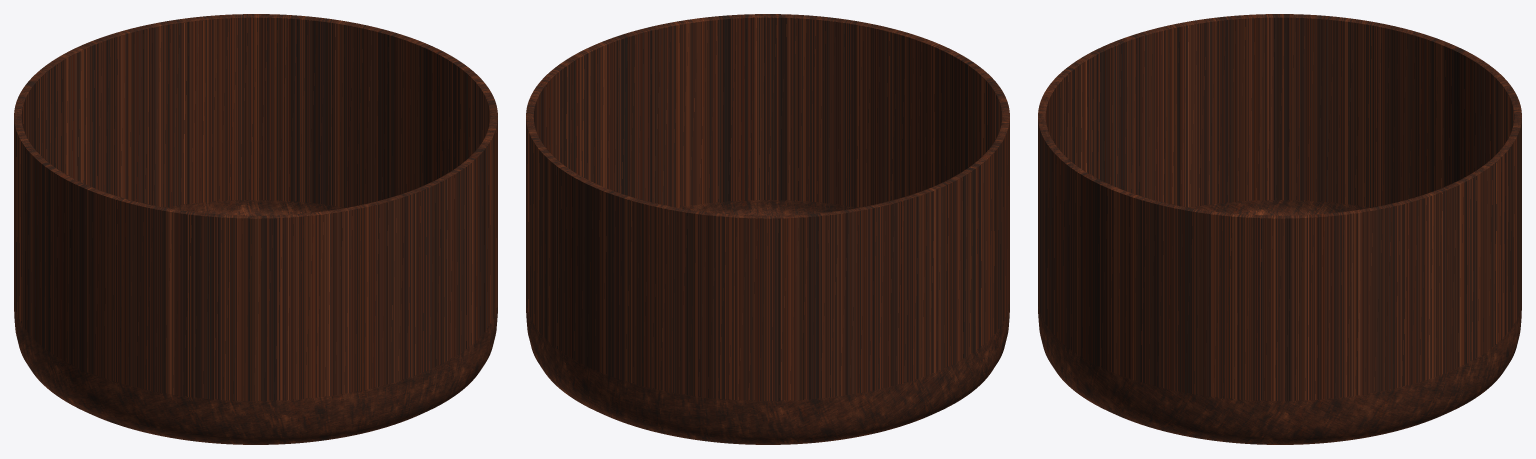
The model's file is RouletteBorder.fbx.
The picture shows the model from 3 angles, left to right: view 1: azimuth 30°, elevation 25°; view 2: azimuth 150°, elevation 25°; view 3: azimuth 270°, elevation 25°; orthographic projection.
Visible parts, largest first — view 1: Circle.003, Circle; view 2: Circle.003, Circle; view 3: Circle.003, Circle.
Boxes of the visible parts, x1=… form: Circle.003: x1=14, y1=14, x2=497, y2=400; Circle: x1=14, y1=200, x2=497, y2=444; Circle.003: x1=526, y1=14, x2=1009, y2=400; Circle: x1=526, y1=200, x2=1009, y2=444; Circle.003: x1=1038, y1=14, x2=1521, y2=400; Circle: x1=1038, y1=200, x2=1521, y2=444.
Size of the model in its own units: 419 by 227 by 419.
